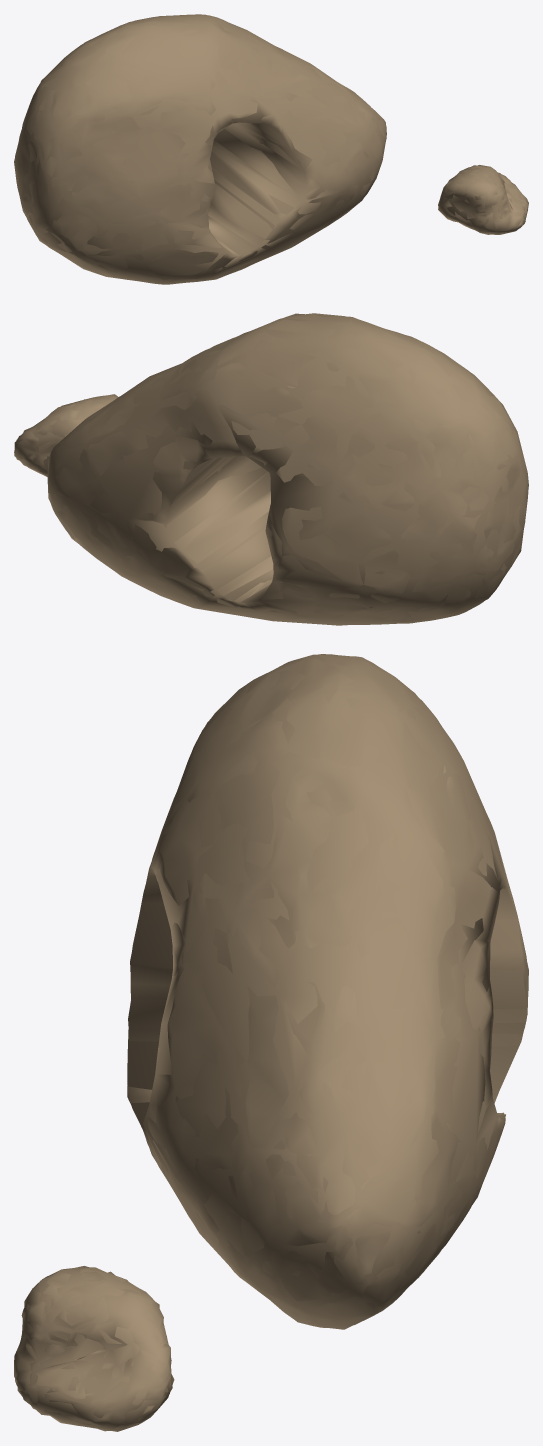
File: rock_formation_2.glb
The picture shows the model from 3 angles, top to bottom: view 1: azimuth 30°, elevation 25°; view 2: azimuth 150°, elevation 25°; view 3: azimuth 270°, elevation 25°; orthographic projection. The views are drawn at different scales.
Visible parts, largest first — view 1: Rock_0, Rock_0_Far, Rock_1, Rock_1_Far; view 2: Rock_0, Rock_0_Far, Rock_1, Rock_1_Far; view 3: Rock_0, Rock_0_Far, Rock_1, Rock_1_Far.
Part boxes in pixels (x1=…): Rock_0: x1=15, y1=14, x2=386, y2=284; Rock_0_Far: x1=14, y1=14, x2=386, y2=284; Rock_1: x1=438, y1=165, x2=528, y2=234; Rock_1_Far: x1=438, y1=165, x2=527, y2=234; Rock_0: x1=48, y1=313, x2=528, y2=625; Rock_0_Far: x1=47, y1=313, x2=528, y2=625; Rock_1: x1=14, y1=395, x2=115, y2=476; Rock_1_Far: x1=14, y1=394, x2=118, y2=476; Rock_0: x1=127, y1=654, x2=528, y2=1328; Rock_0_Far: x1=127, y1=654, x2=528, y2=1329; Rock_1: x1=14, y1=1267, x2=174, y2=1431; Rock_1_Far: x1=15, y1=1266, x2=172, y2=1431.
Size of the model in its own units: 11.04 by 6.02 by 5.6.
